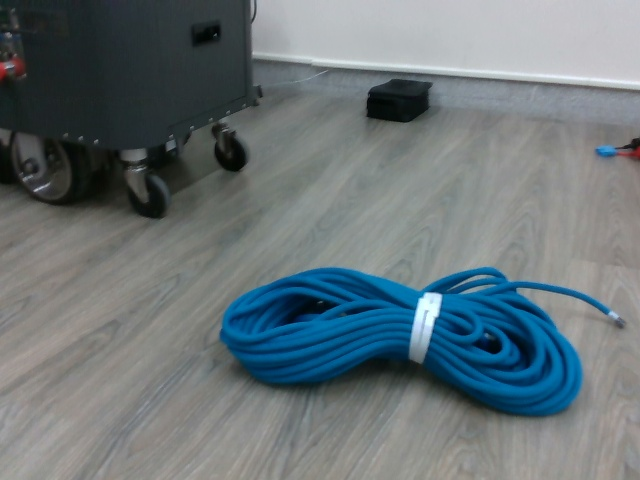rope: (220, 262, 588, 423)
